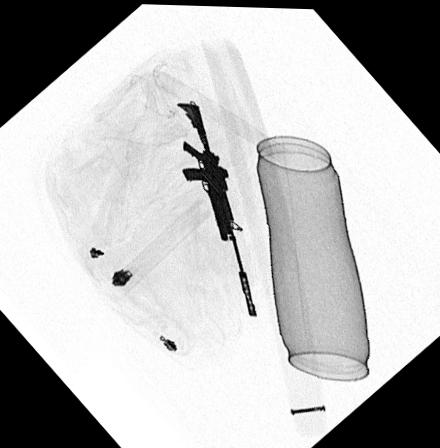Gun: (177, 100, 256, 315)
